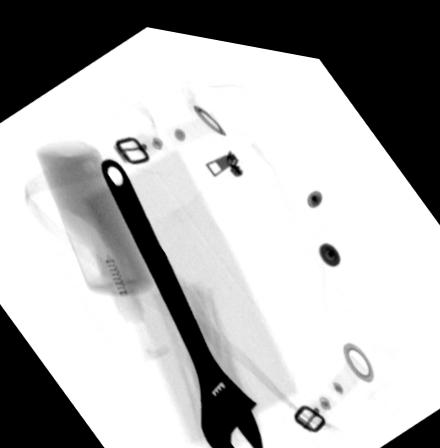Wrench: (98, 151, 264, 448)
